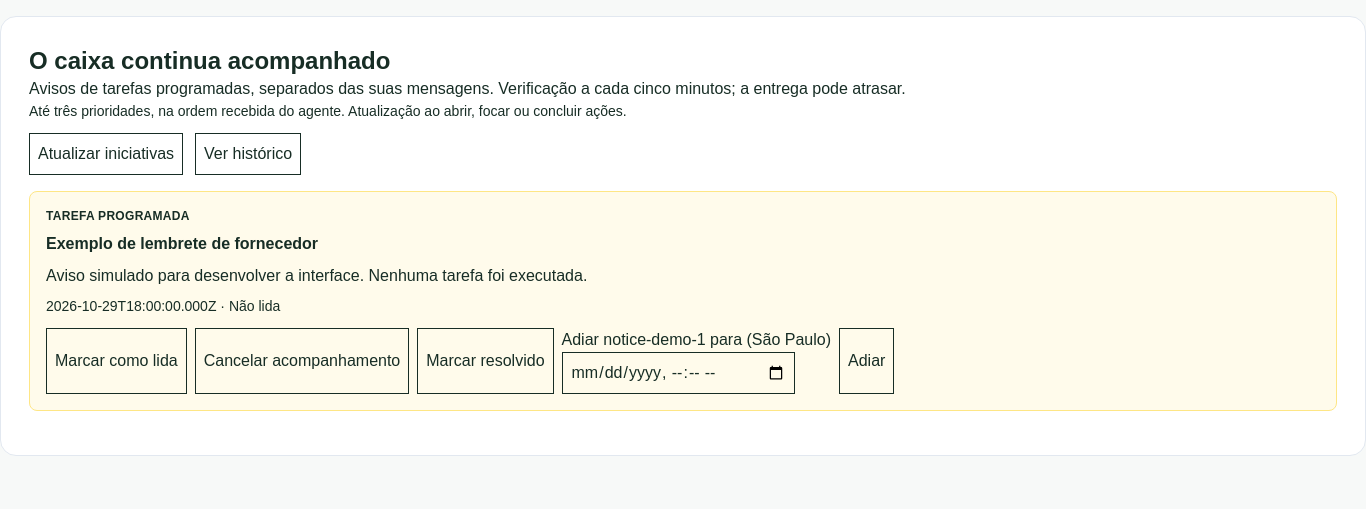
it: T20 ler iniciativa retorna confirmação do agente e recarrega estado
Expected: the heading "Exemplo de lembrete de fornecedor" is shown, [46,235,318,252]
Click the button "Marcar como lida": (116, 361) [46,328,187,394]
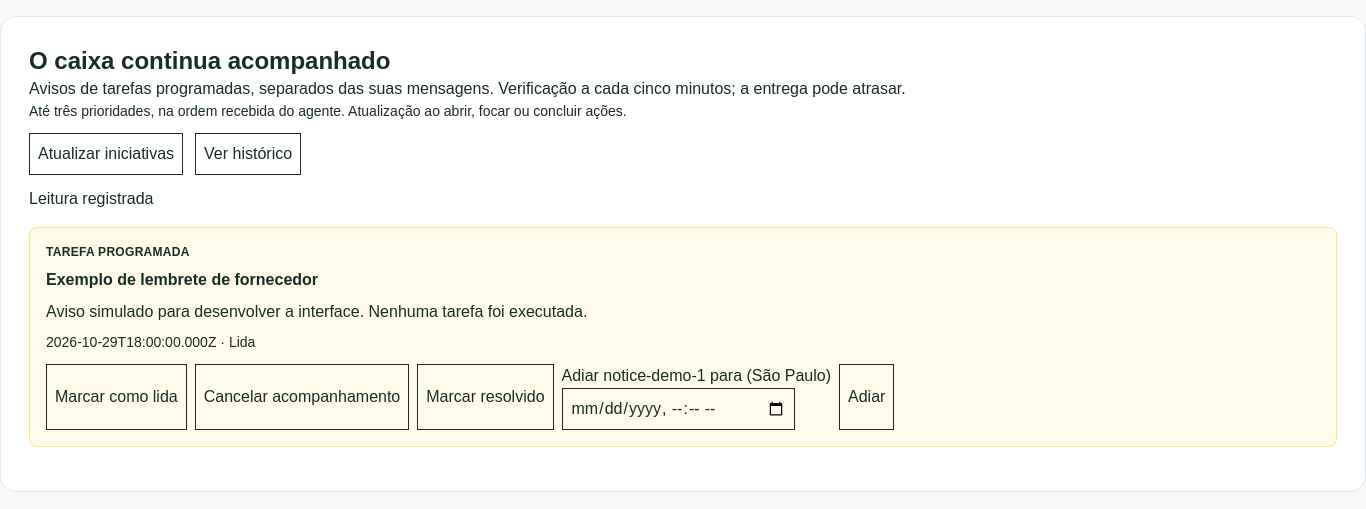
Expected: the text "Lida" is shown, [229,334,255,350]
Expected: the text "Leitura registrada" is shown, [29,190,154,207]
